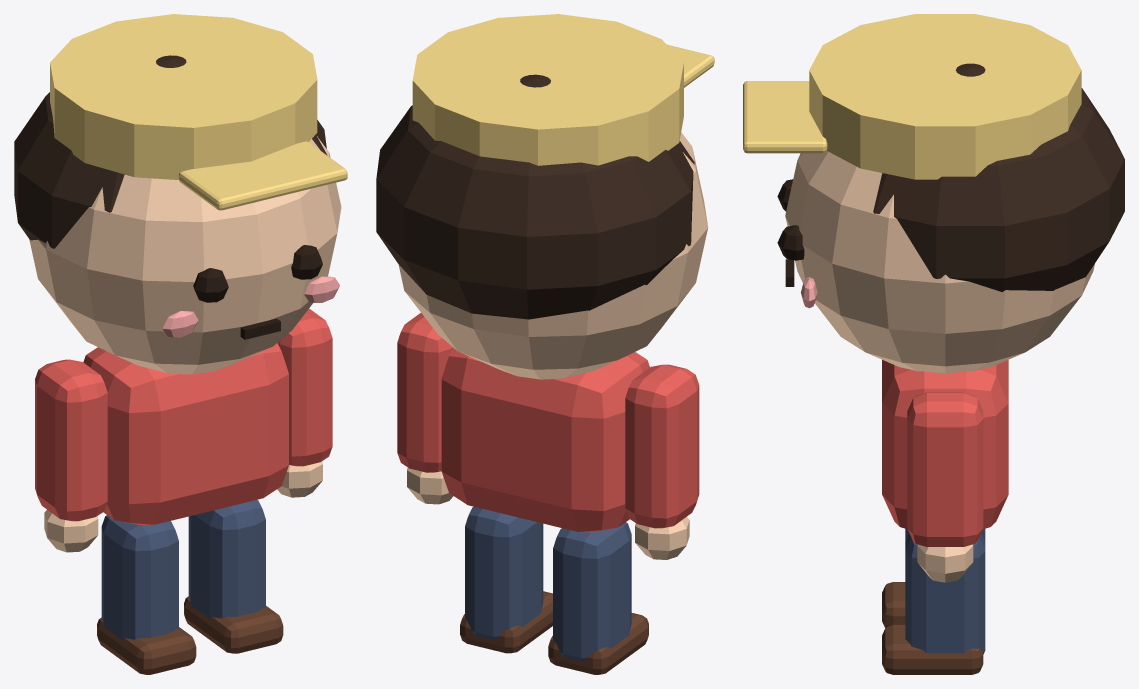
File: kar_penjaga_minimarket.fbx
3 renders of one model, left to right at view 1: azimuth 30°, elevation 25°; view 2: azimuth 150°, elevation 25°; view 3: azimuth 270°, elevation 25°, orthographic.
Parts seen in each view (by area): view 1: kar_penjaga_minimarket; view 2: kar_penjaga_minimarket; view 3: kar_penjaga_minimarket.
Boxes of the visible parts, bbox=[...] form: kar_penjaga_minimarket: bbox=[14, 14, 347, 674]; kar_penjaga_minimarket: bbox=[376, 14, 714, 674]; kar_penjaga_minimarket: bbox=[743, 14, 1124, 674].
Size of the model in its own units: 76 by 151 by 90.6.
1 material, 1 textured.
